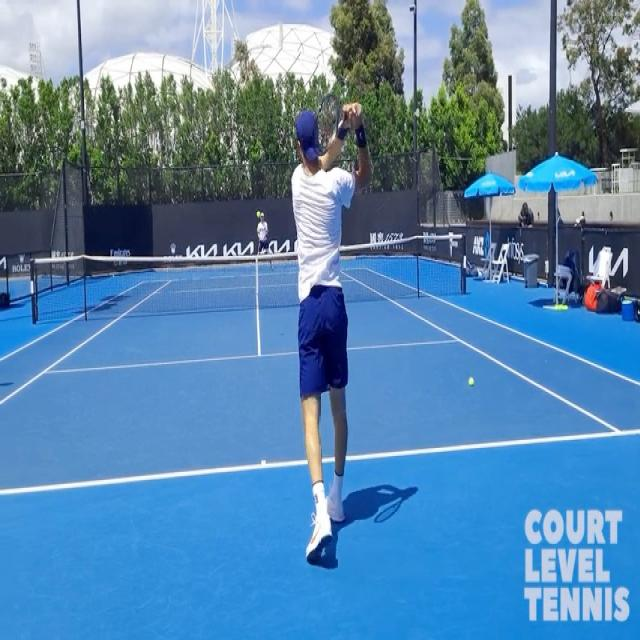forehand-finish: (285, 86, 371, 582)
